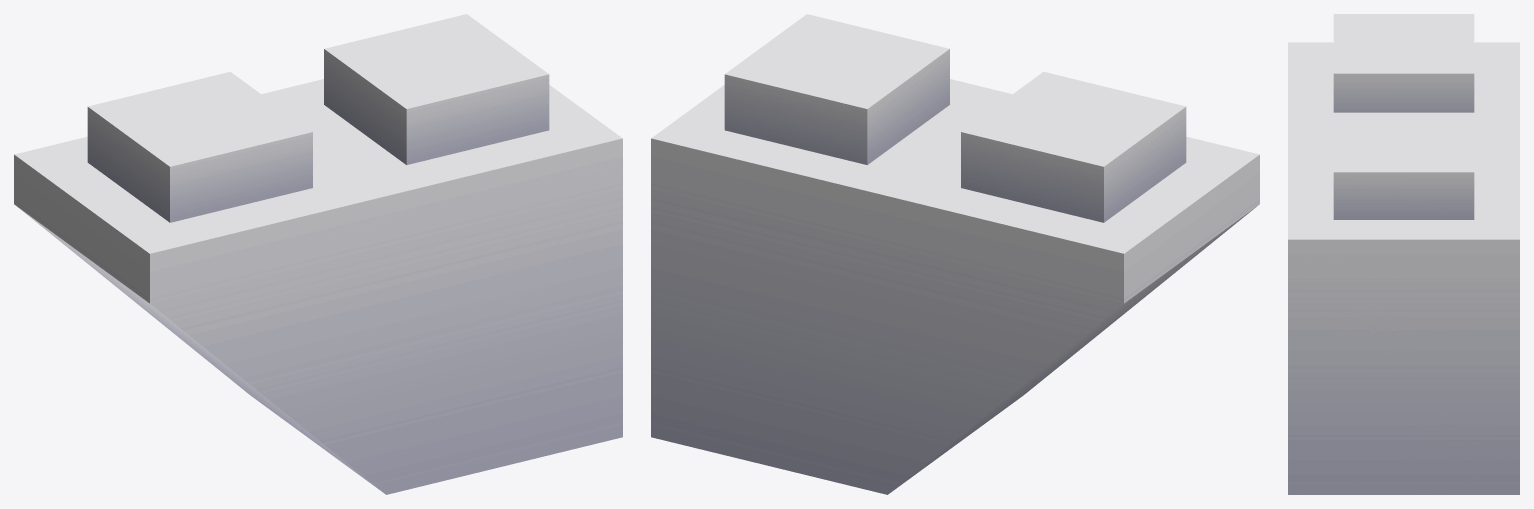
Rendered from brick-kit--square-lq-brick-slope-inverted-1x2.glb.
3 renders of one model, left to right at view 1: azimuth 30°, elevation 25°; view 2: azimuth 150°, elevation 25°; view 3: azimuth 270°, elevation 25°, orthographic. The views are drawn at different scales.
Visible parts, largest first — view 1: square-lq-brick-slope-inverted-1x2; view 2: square-lq-brick-slope-inverted-1x2; view 3: square-lq-brick-slope-inverted-1x2.
Part boxes in pixels (left/top/right/bottom): square-lq-brick-slope-inverted-1x2: left=14, top=14, right=622, bottom=494; square-lq-brick-slope-inverted-1x2: left=651, top=14, right=1259, bottom=494; square-lq-brick-slope-inverted-1x2: left=1288, top=14, right=1519, bottom=494.
Size of the model in its own units: 0.159 by 0.114 by 0.079.
1 material, 1 textured.
